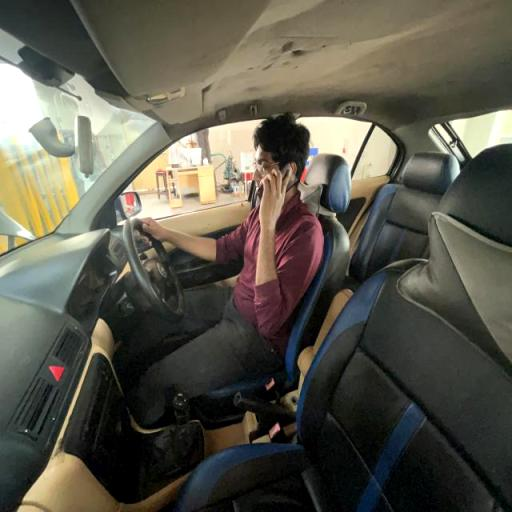Talking_on_phone: (144, 117, 324, 347)
